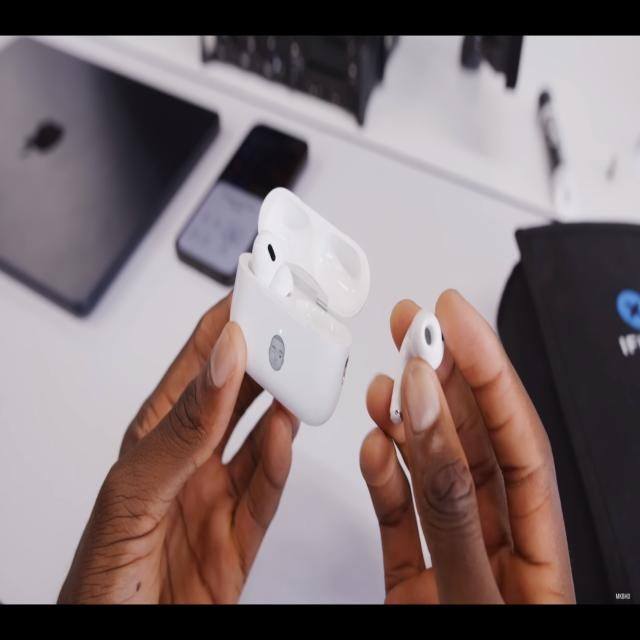airpods: (388, 304, 447, 427)
